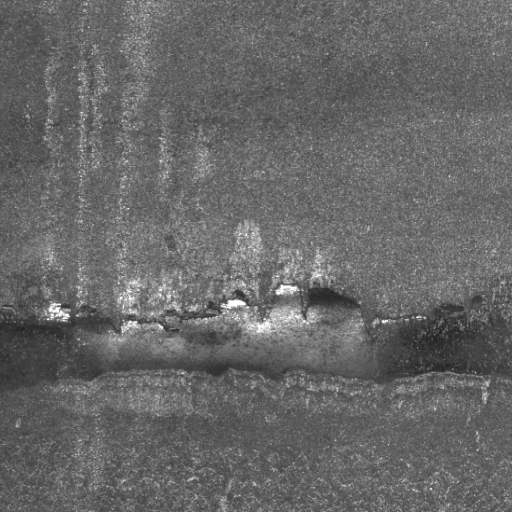qiaopi: (5, 283, 512, 392)
